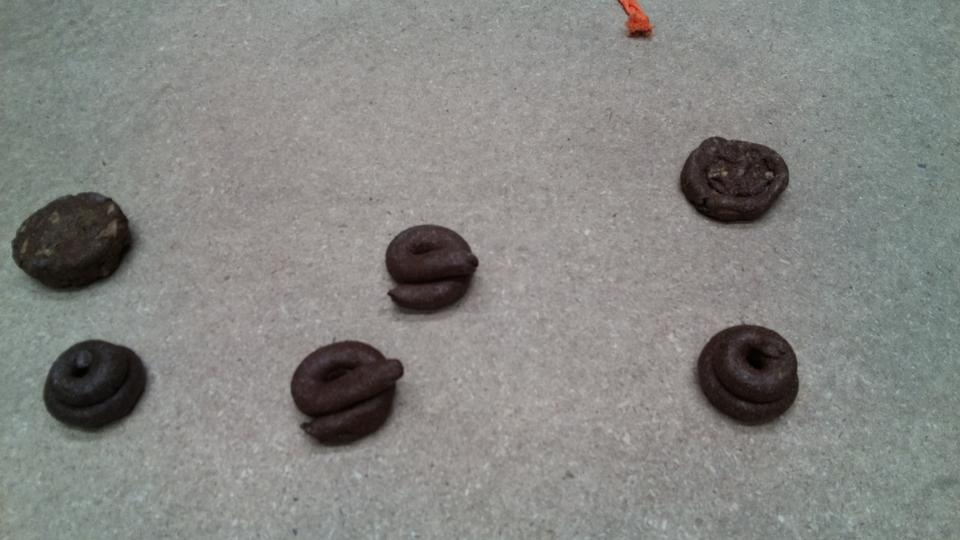poop: (7, 187, 136, 295), (287, 337, 407, 450), (694, 320, 802, 432), (40, 335, 150, 436), (678, 134, 792, 227), (381, 219, 482, 316)
rope: (616, 1, 656, 39)
